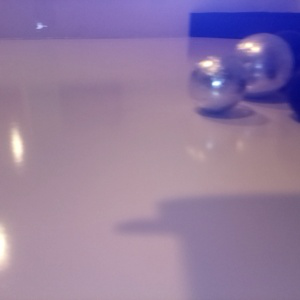alive_ball: (235, 33, 292, 94), (188, 56, 246, 113)
dead_ball: (263, 29, 300, 87), (289, 71, 300, 119)
